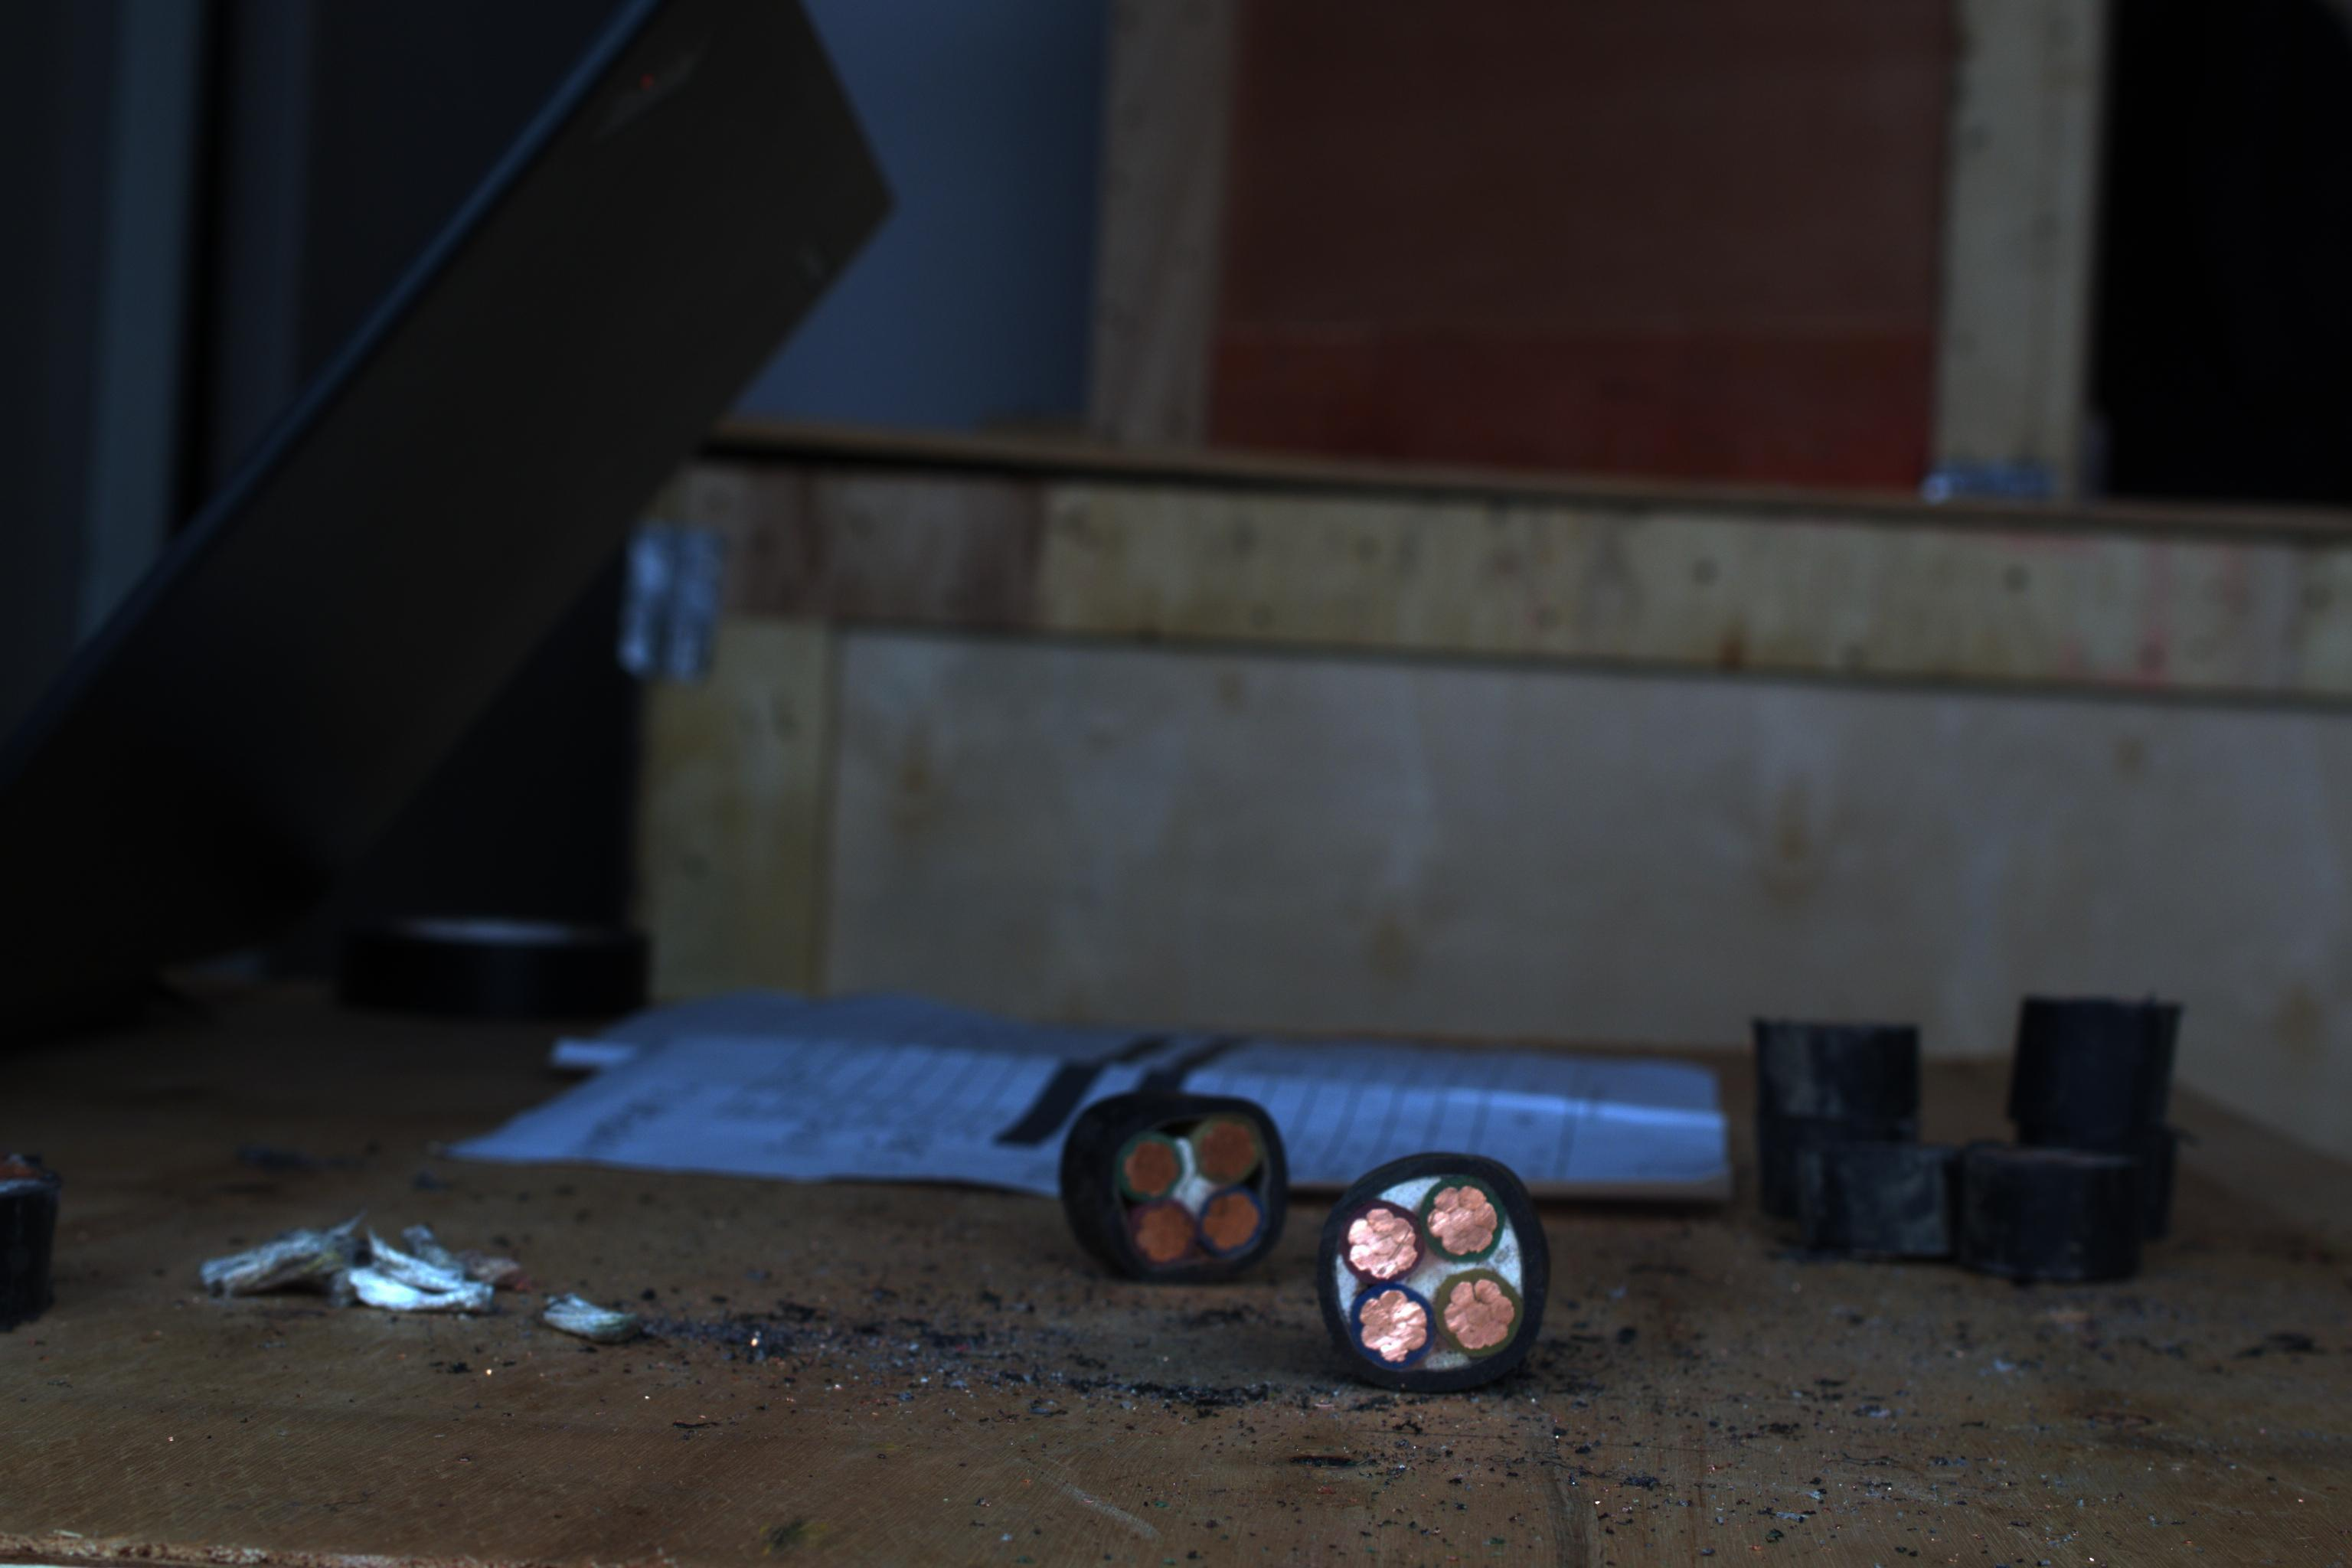YJV_0.6_1kV_4x35: (1311, 1141, 1592, 1403)
